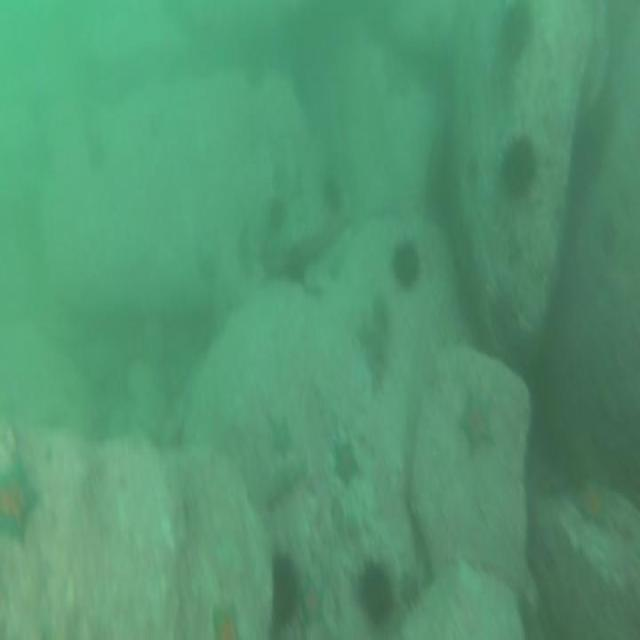echinus: (498, 130, 540, 208), (358, 556, 396, 629), (270, 552, 303, 630), (498, 0, 533, 63), (390, 235, 422, 294), (80, 125, 108, 174), (241, 51, 268, 93), (321, 171, 344, 218), (269, 191, 289, 237)
starfish: (0, 449, 41, 551), (456, 384, 499, 461), (569, 474, 615, 533), (329, 433, 363, 491), (266, 409, 296, 468), (298, 569, 324, 630), (396, 567, 424, 613), (210, 600, 242, 640)
